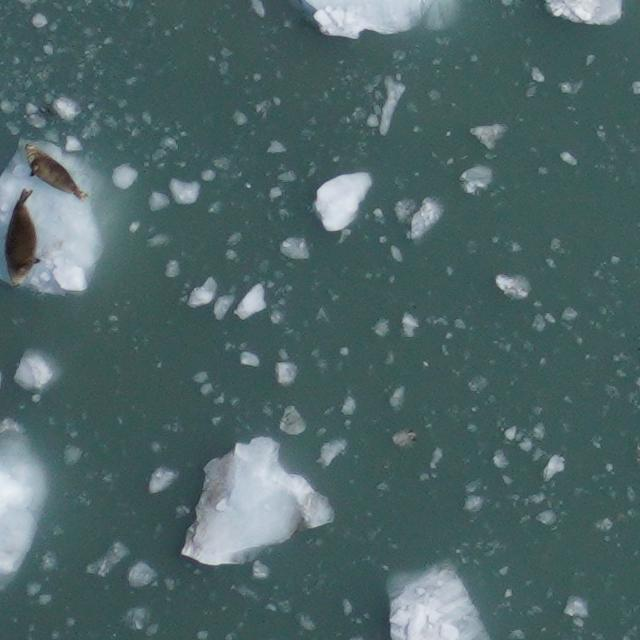seal: (11, 140, 94, 210), (0, 186, 46, 291)
